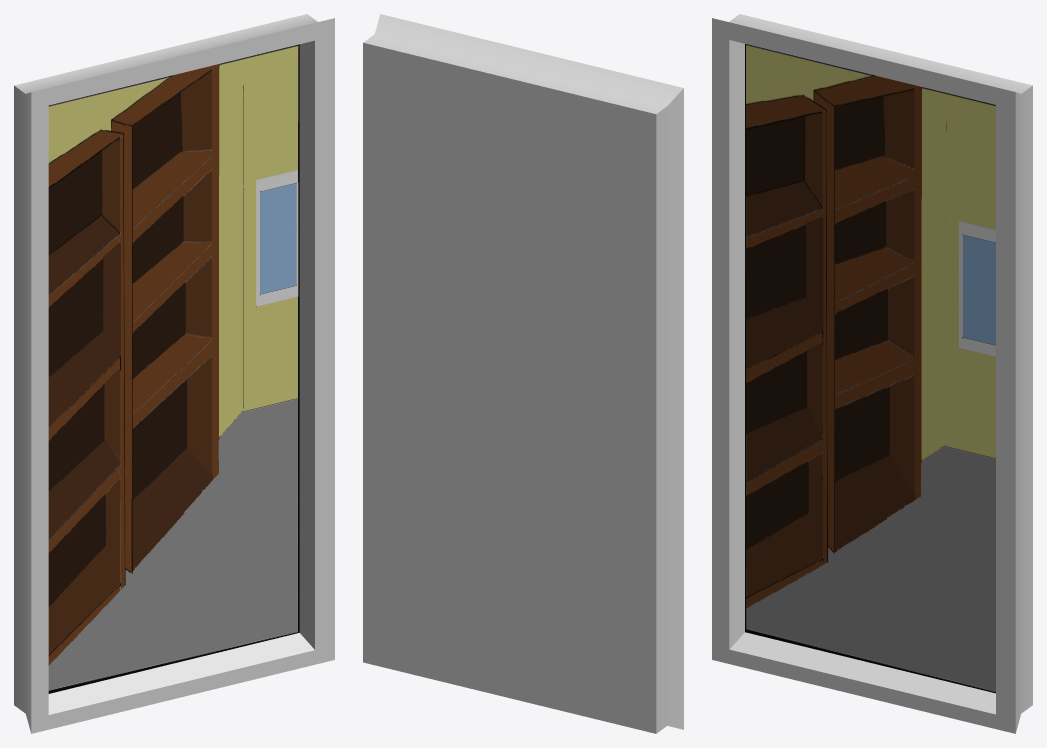
The model's file is Doorframe_bib.fbx.
3 renders of one model, left to right at view 1: azimuth 30°, elevation 25°; view 2: azimuth 150°, elevation 25°; view 3: azimuth 330°, elevation 25°, orthographic.
Parts seen in each view (by area): view 1: pCube1; view 2: pCube1; view 3: pCube1.
Boxes of the visible parts, x1,y1,x2,y2 form: pCube1: (14, 14, 334, 733); pCube1: (363, 14, 683, 733); pCube1: (712, 14, 1032, 733).
Bounding box in the file's own units: 70.18 × 142 × 8.97.
Materials: 1 (1 with a texture image).
